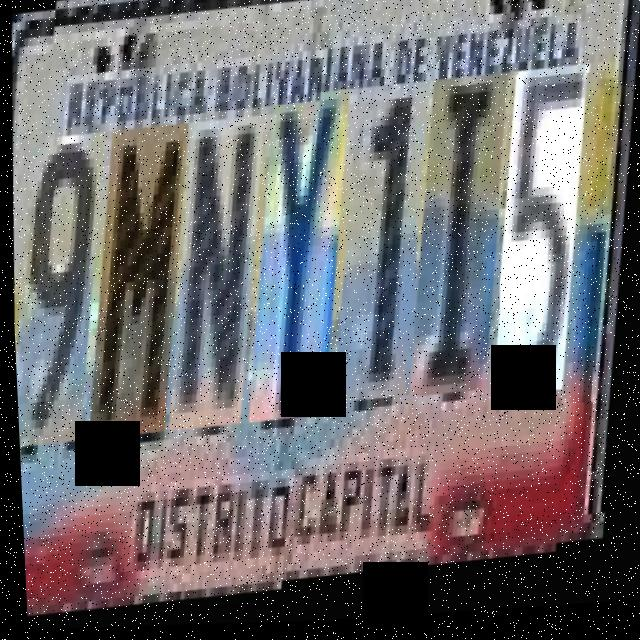1: (326, 90, 442, 418)
5: (485, 77, 602, 415)
9: (4, 123, 116, 442)
I: (402, 83, 523, 412)
M: (82, 116, 201, 436)
N: (162, 111, 277, 429)
Y: (242, 96, 362, 425)
